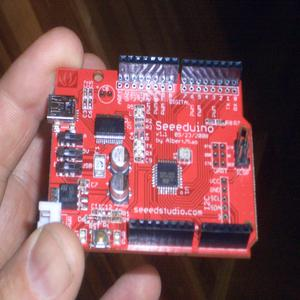duino: (43, 41, 262, 264)
